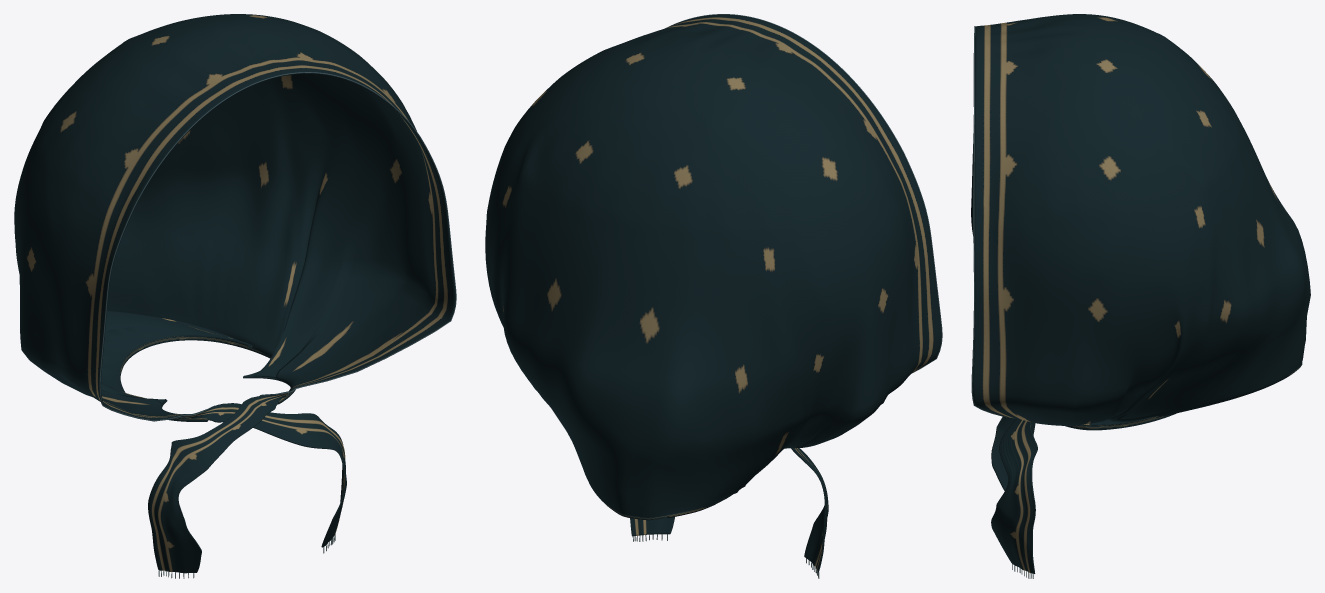
File: Feminine-ponytail-triangle-pashmina249-headgear.glb
3 views of the same model, side by side, from view 1: azimuth 30°, elevation 25°; view 2: azimuth 150°, elevation 25°; view 3: azimuth 270°, elevation 25° (orthographic). The views are drawn at different scales.
Visible parts, largest first — view 1: 226 headgear / Headwear / continuous woven pashmina239, 226 headgear / Headwear / face edge239; view 2: 226 headgear / Headwear / continuous woven pashmina239, 226 headgear / Headwear / face edge239; view 3: 226 headgear / Headwear / continuous woven pashmina239, 226 headgear / Headwear / face edge239.
Boxes of the visible parts, bbox=[...] form: 226 headgear / Headwear / continuous woven pashmina239: bbox=[14, 14, 455, 573]; 226 headgear / Headwear / face edge239: bbox=[99, 72, 456, 421]; 226 headgear / Headwear / continuous woven pashmina239: bbox=[485, 14, 941, 572]; 226 headgear / Headwear / face edge239: bbox=[665, 14, 942, 373]; 226 headgear / Headwear / continuous woven pashmina239: bbox=[971, 14, 1310, 573]; 226 headgear / Headwear / face edge239: bbox=[971, 26, 1011, 417].
Size of the model in its own units: 1.02 by 1.37 by 0.8332.
3 materials, 1 textured.
